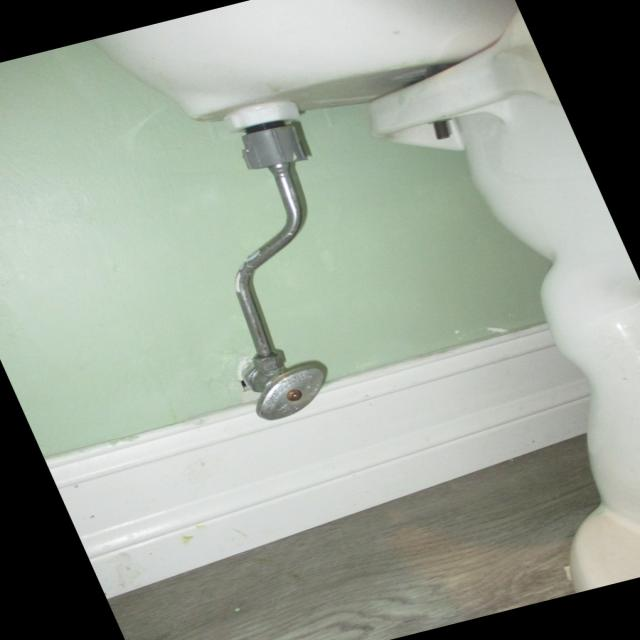good_bolt: (430, 116, 454, 141)
good_coupler: (240, 121, 313, 171)
good_line: (230, 166, 307, 369)
good_valve: (237, 356, 331, 420)
